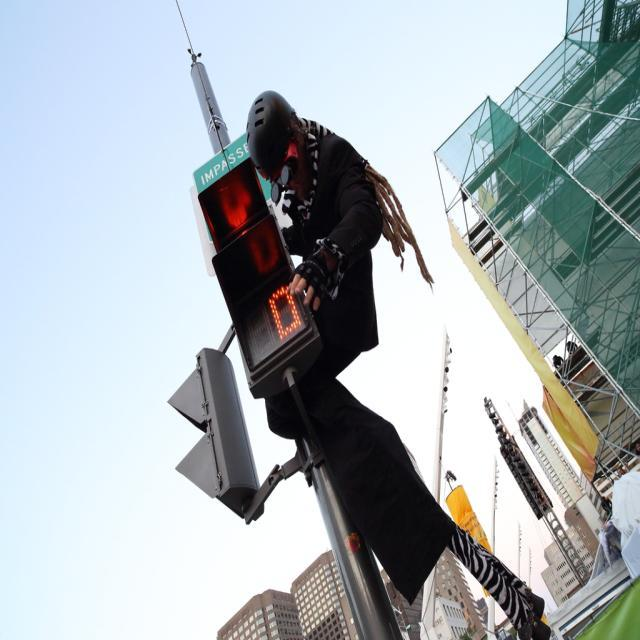off traffic light: (165, 346, 263, 522)
traffic light: (196, 152, 322, 390)
